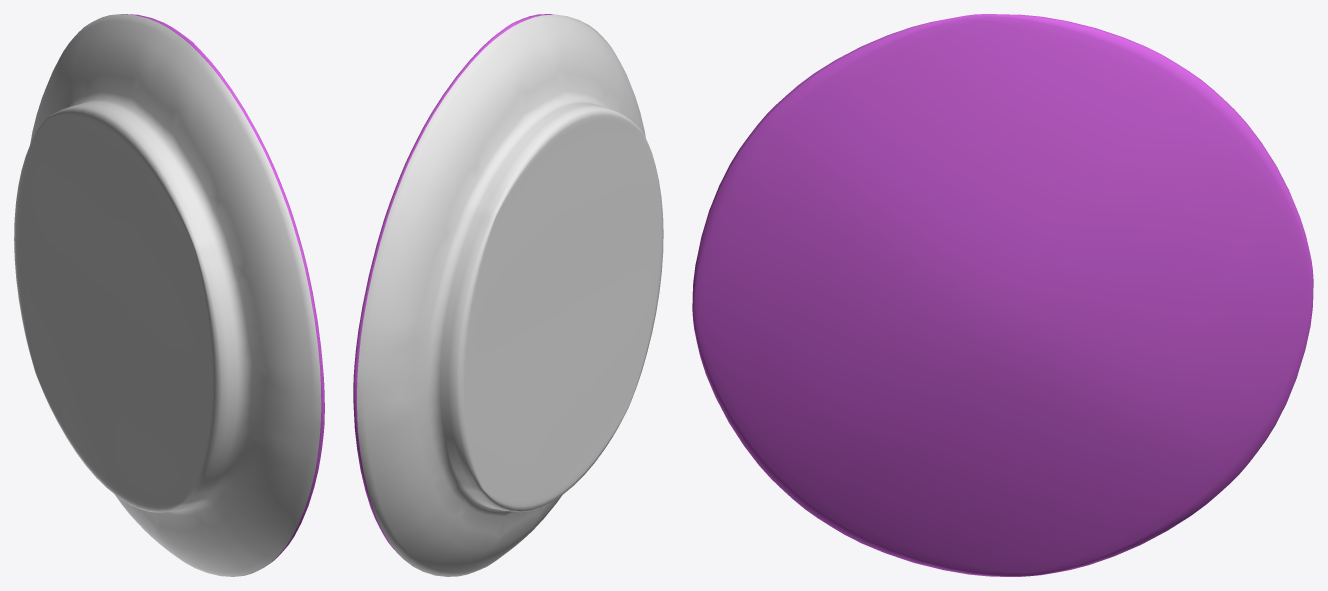
Rendered from Wall_Lamp.fbx.
3 views of the same model, side by side, from view 1: azimuth 30°, elevation 25°; view 2: azimuth 150°, elevation 25°; view 3: azimuth 270°, elevation 25° (orthographic). The views are drawn at different scales.
Visible parts, largest first — view 1: Cylinder; view 2: Cylinder; view 3: Cylinder.
Part boxes in pixels (box(x1,y1,x2,y2)): Cylinder: box(14, 14, 324, 576); Cylinder: box(353, 14, 663, 576); Cylinder: box(692, 14, 1313, 576).
Bounding box in the file's own units: 51.41 × 224 × 224.
